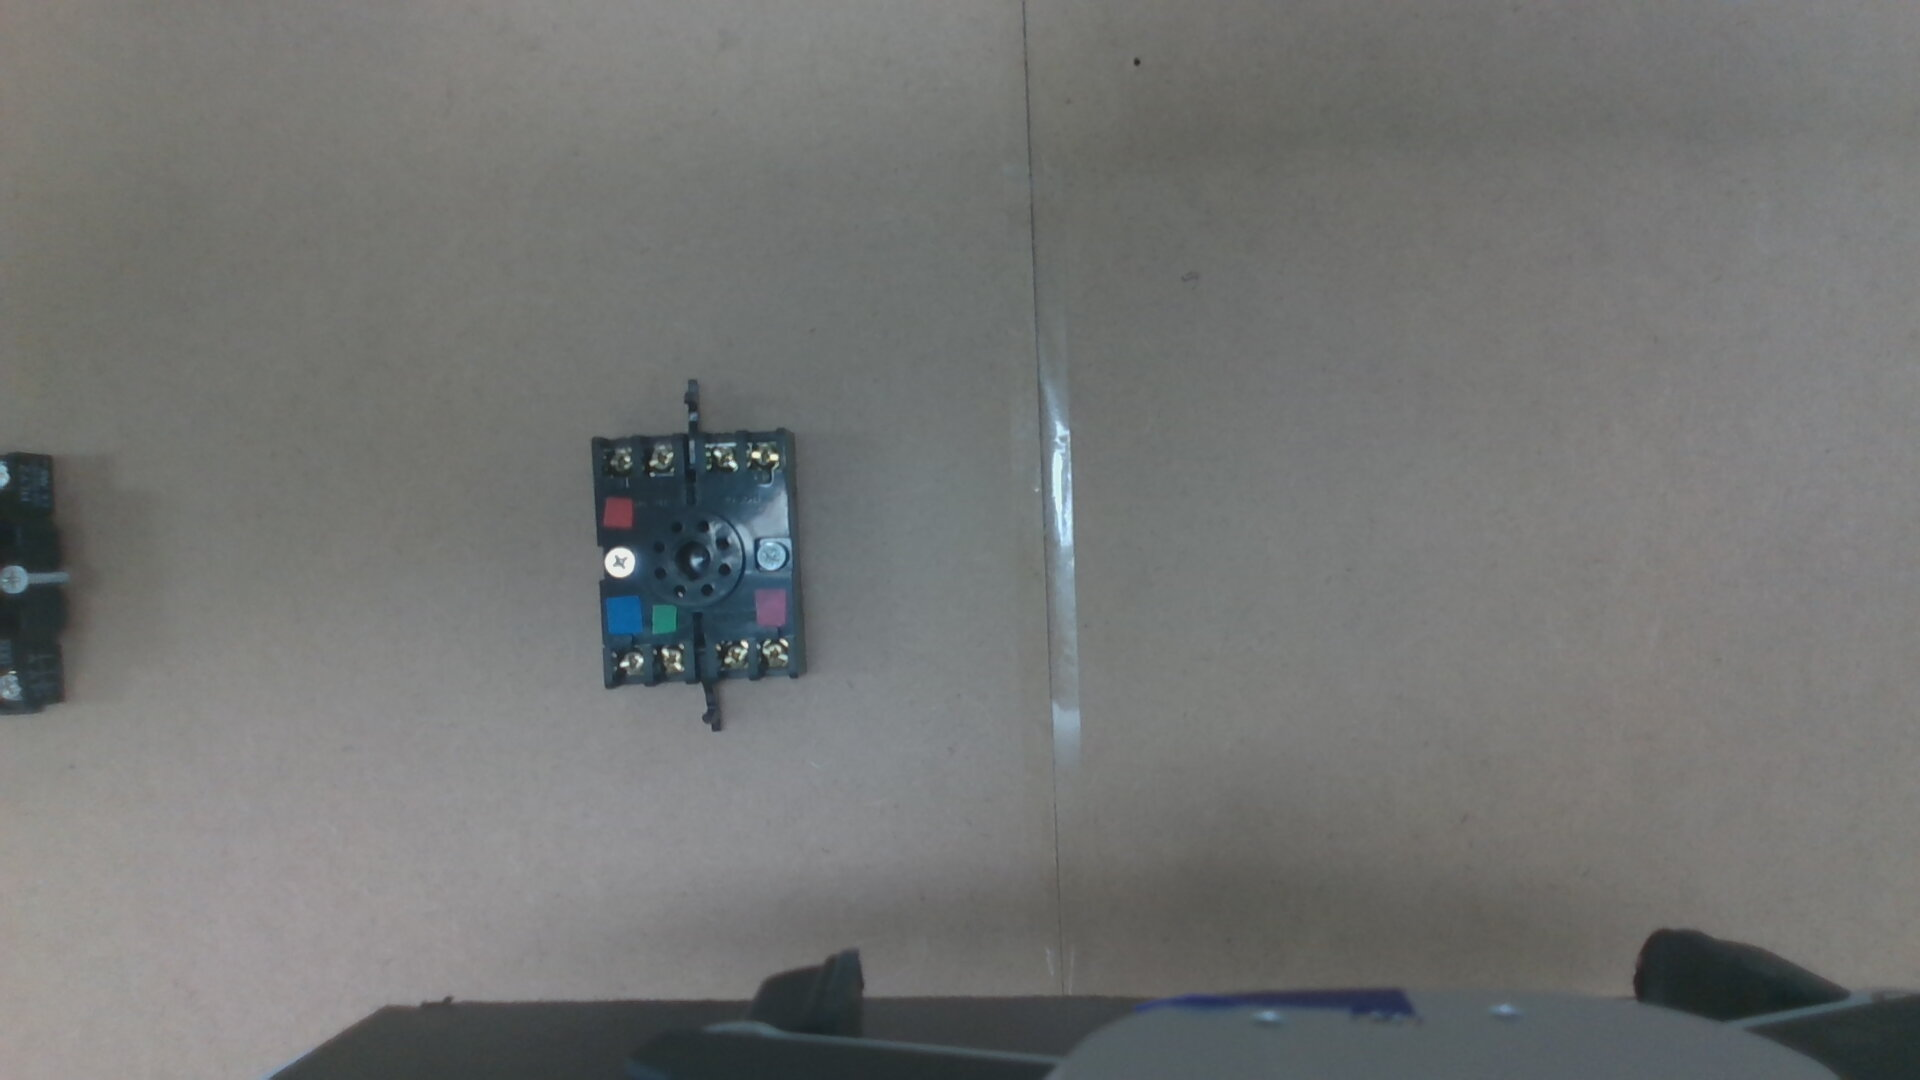timer 2: (760, 638, 789, 669)
timer 6: (604, 448, 632, 473)
timer 7: (617, 650, 642, 676)
timer 8: (657, 645, 683, 674)
